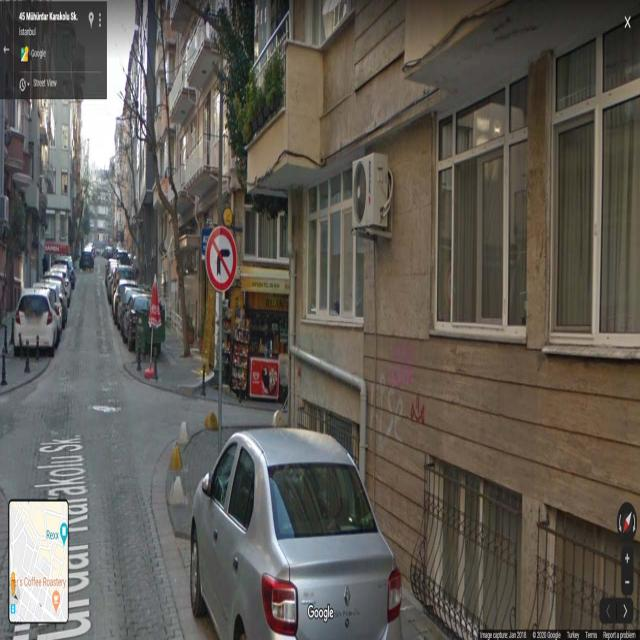sagadonulmez: (207, 225, 236, 289)
